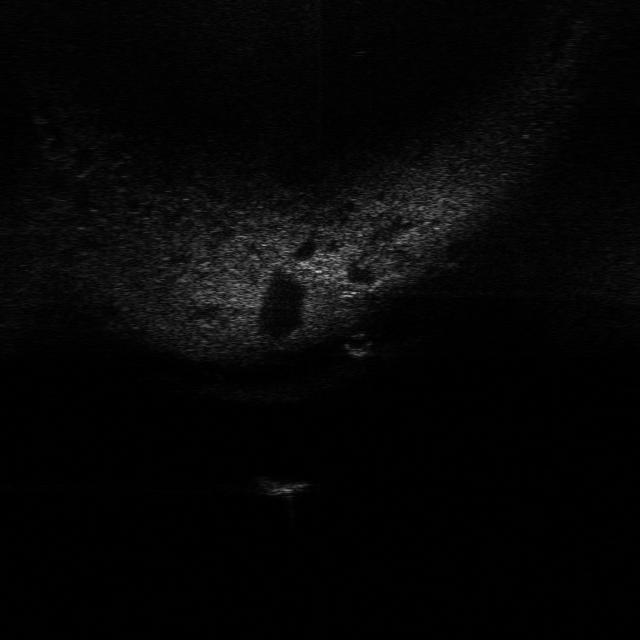ball: (340, 330, 376, 357)
cube: (249, 475, 312, 501)
